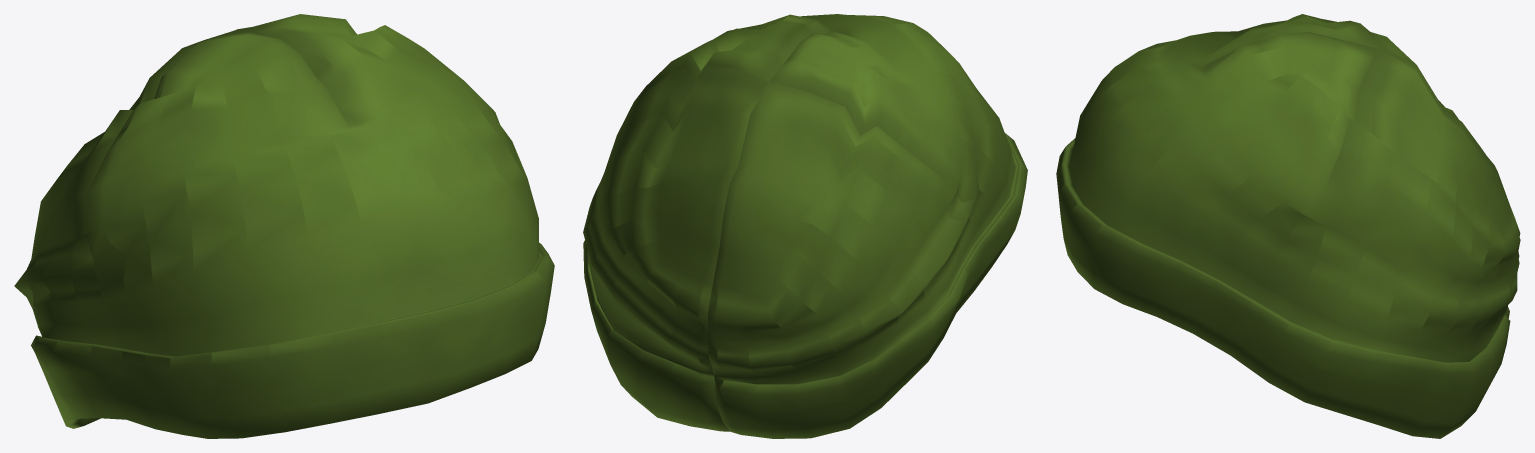
Rendered from Beanie_Boy.fbx.
The picture shows the model from 3 angles, left to right: view 1: azimuth 30°, elevation 25°; view 2: azimuth 150°, elevation 25°; view 3: azimuth 270°, elevation 25°; orthographic projection. The views are drawn at different scales.
Parts seen in each view (by area): view 1: Beanie; view 2: Beanie; view 3: Beanie.
Boxes of the visible parts, box(x1,y1,x2,y2) form: Beanie: box(14, 14, 554, 438); Beanie: box(583, 14, 1027, 438); Beanie: box(1056, 14, 1520, 438).
Size of the model in its own units: 52.74 by 48.16 by 56.01.
